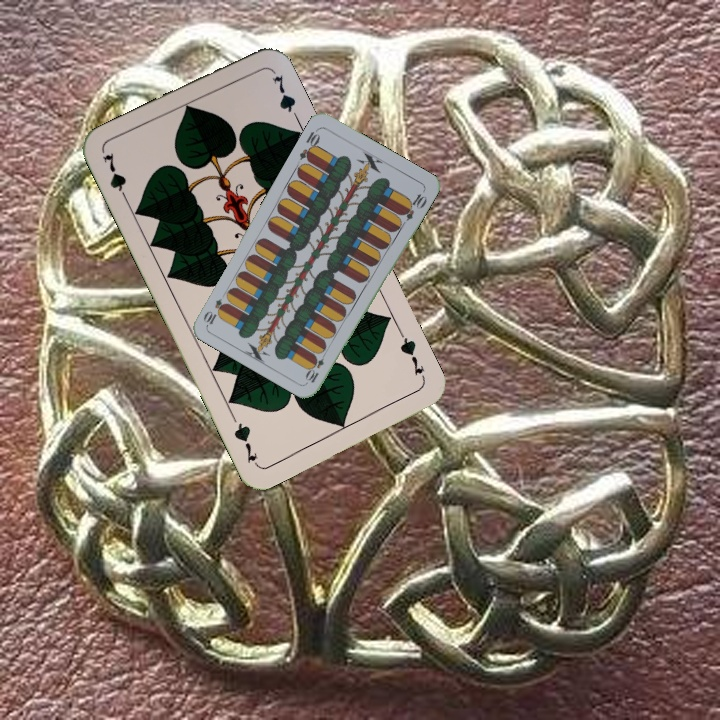E10: (295, 125, 323, 164), (303, 347, 329, 385)
G7: (98, 148, 132, 206), (395, 329, 427, 378)
